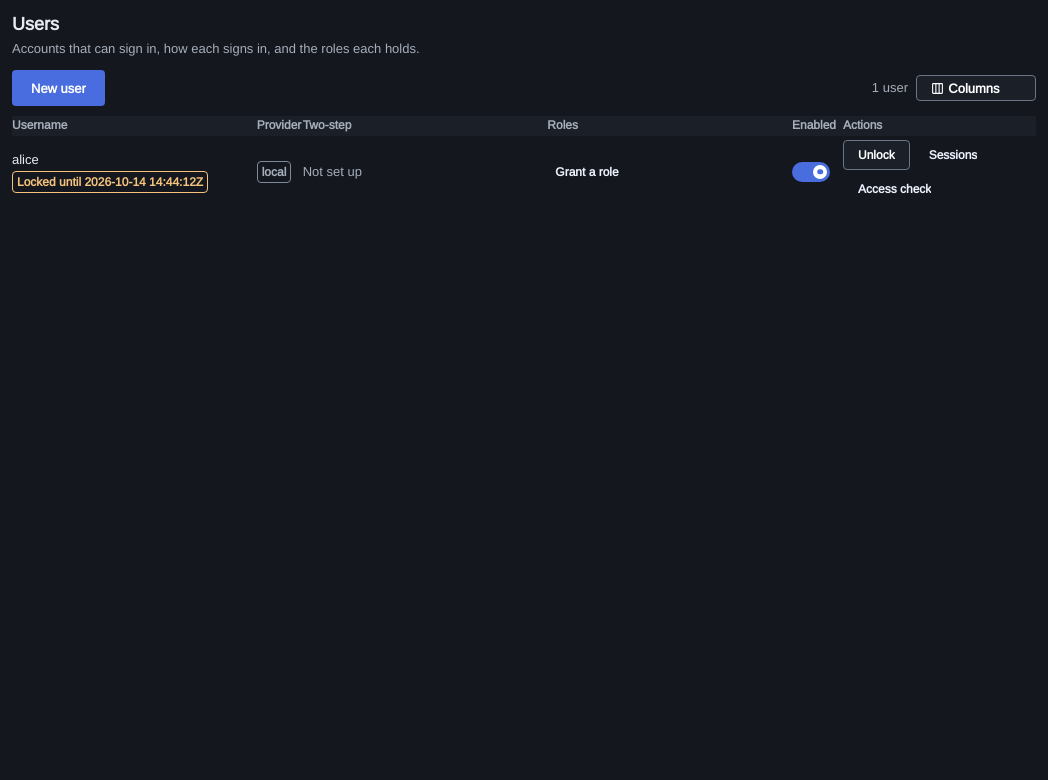
Test: UsersPanel account lock › says why an unlock failed and keeps the account shown as locked
Click the button with aria-label "Unlock alice". click: coordinates (876, 155)
box: x1=843 y1=140 x2=910 y2=170
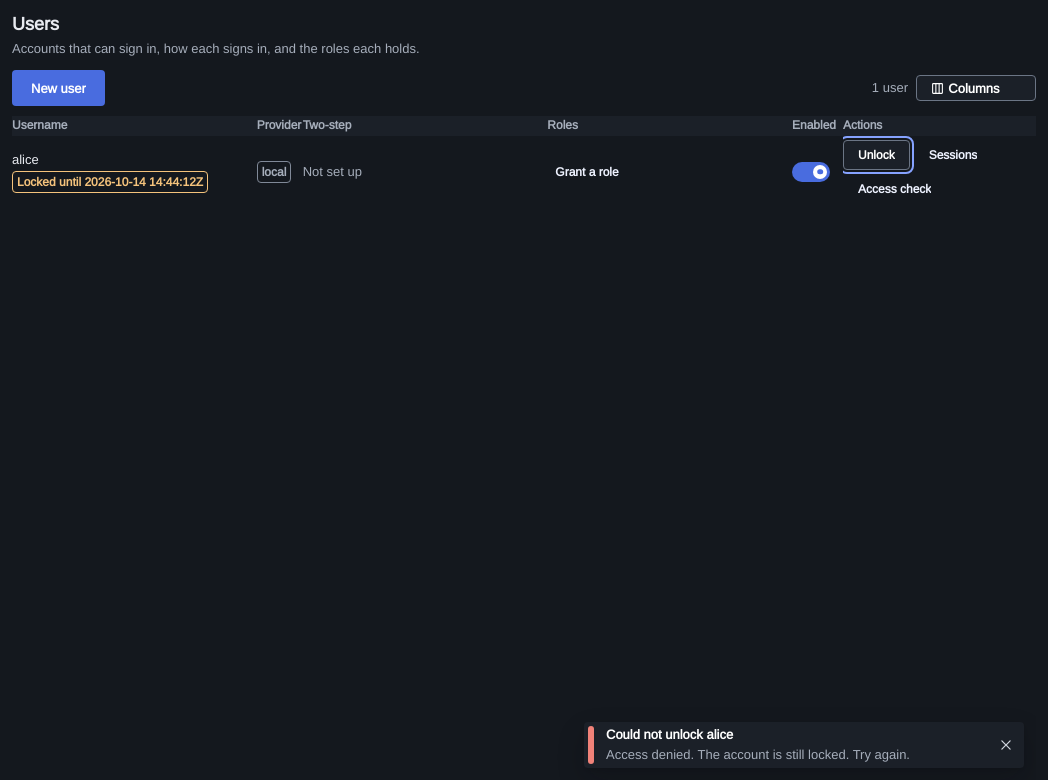
Expected: the text "Locked until 2026-10-14 14:44:12Z" is shown, x1=12 y1=171 x2=208 y2=193
Result: the message shows "Could not unlock alice" at x1=606 y1=726 x2=733 y2=743
Result: the message shows "Access denied. The account is still locked. Try again." at x1=606 y1=746 x2=910 y2=763
